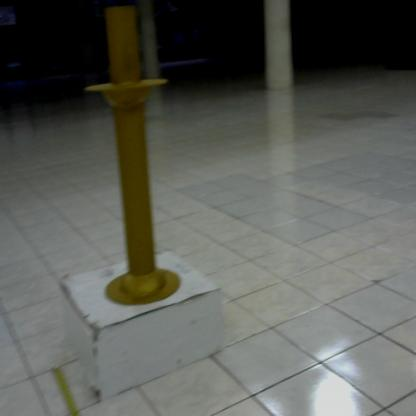pole: (78, 3, 193, 316)
